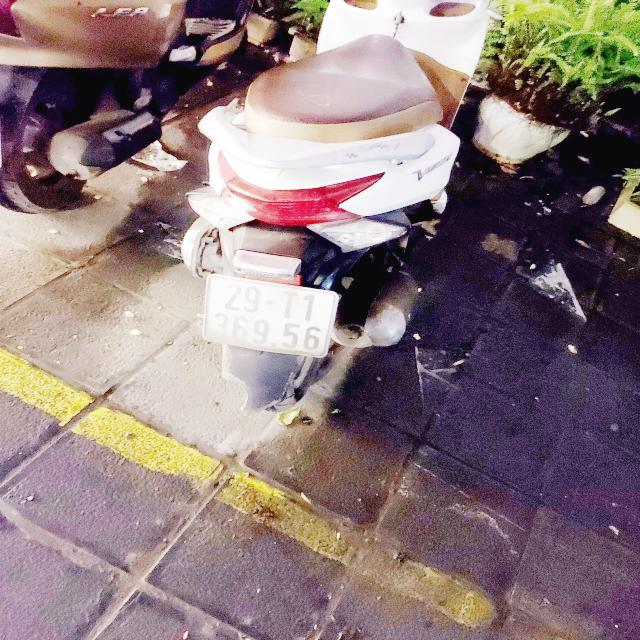license_plate: (191, 270, 351, 368)
